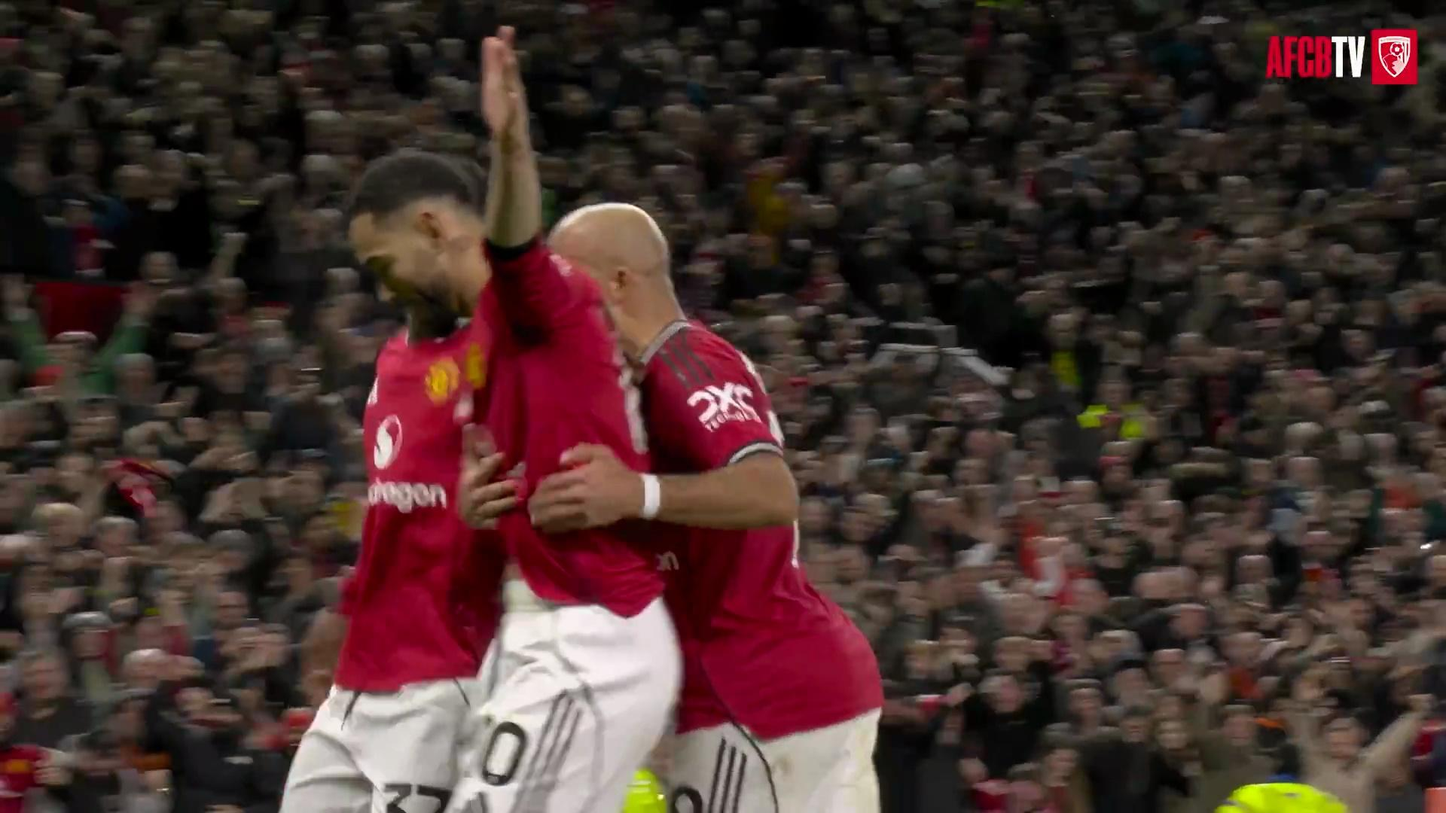player: (526, 203, 882, 812), (280, 154, 505, 812), (349, 30, 646, 492)
